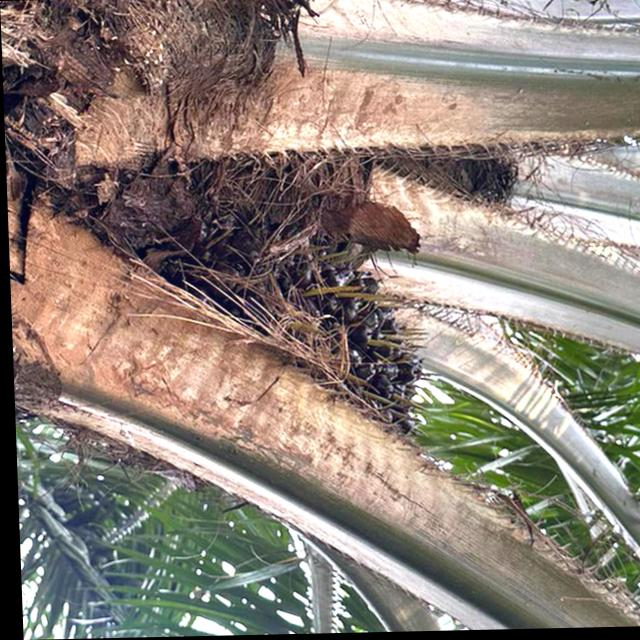ripe: (172, 242, 425, 424)
